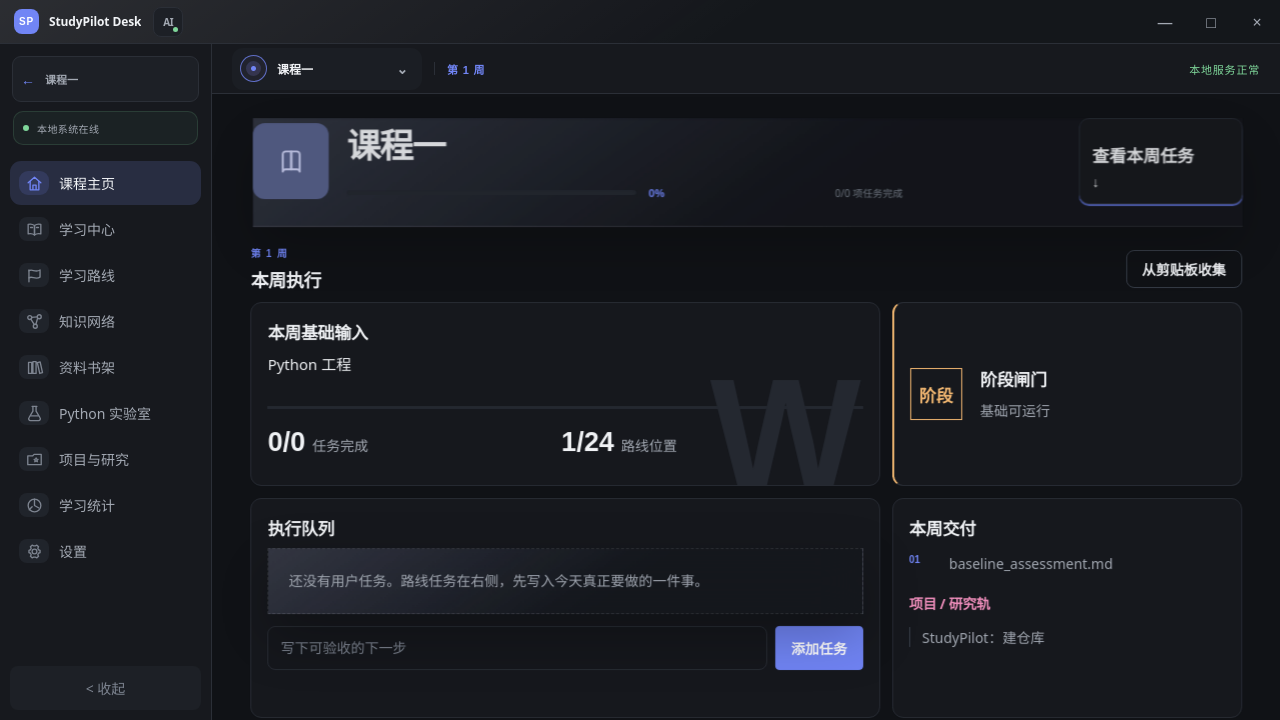
it: passes the active course into the Python workbench draft scope
The width and height of the screenshot is (1280, 720).
Expected: the heading "本周执行" is shown, [250,266,321,292]
Click the button "Python 实验室" at (106, 413), box [10,391,201,435]
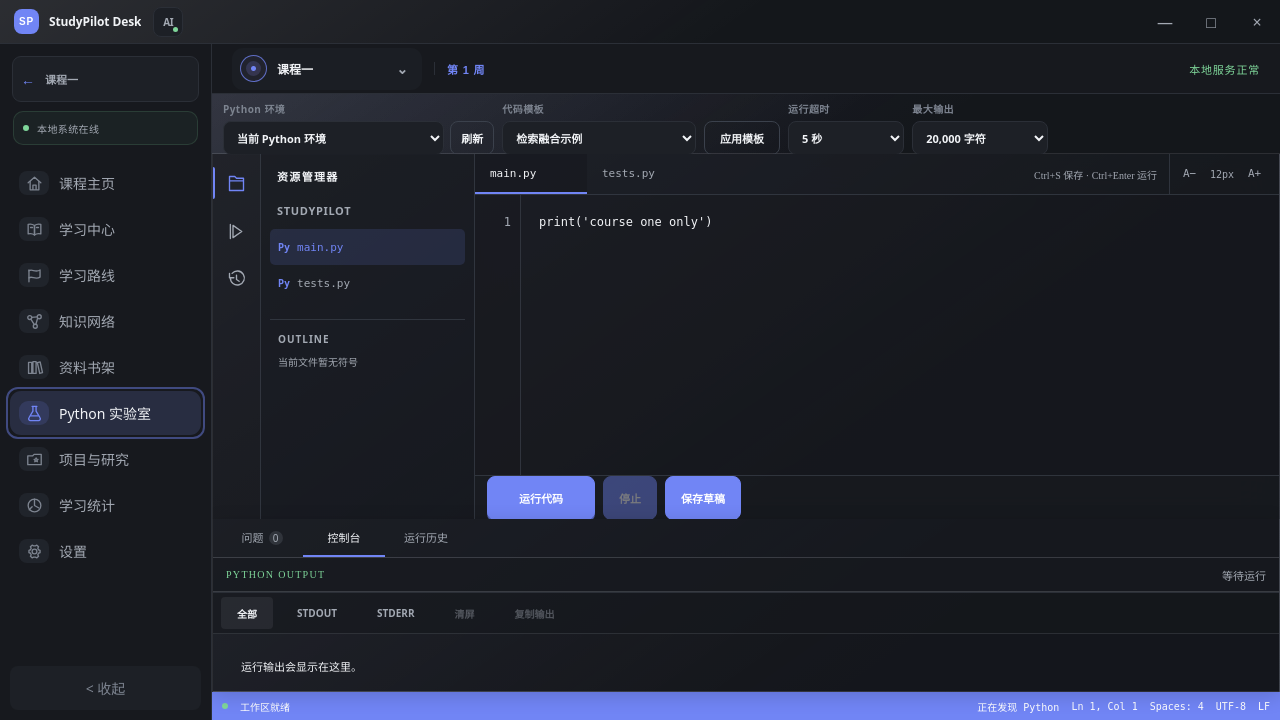
Now the text box named "Python 代码" holds "print('course one only')", box [521,195,1279,475]
Click the button with aria-label "当前课程：课程一" at (327, 68), box [232,48,422,90]
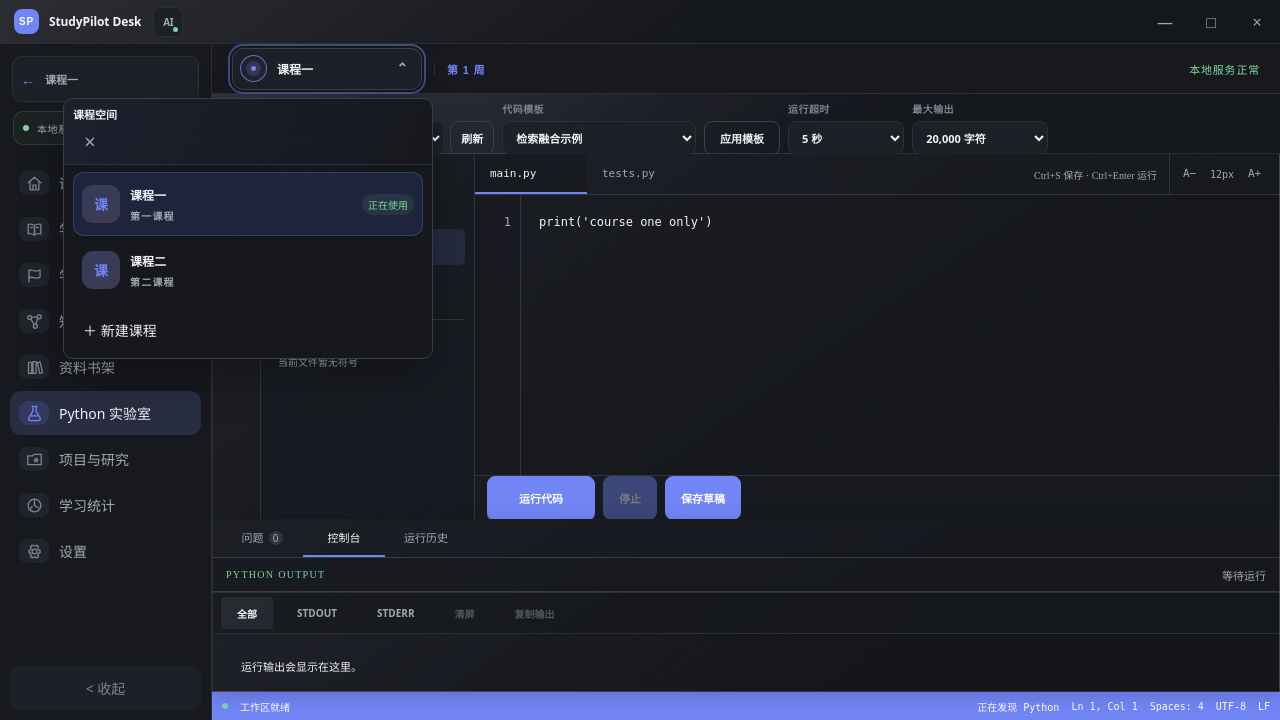
Click the button with aria-label "切换到 课程二" at (101, 270), box [73,238,423,302]
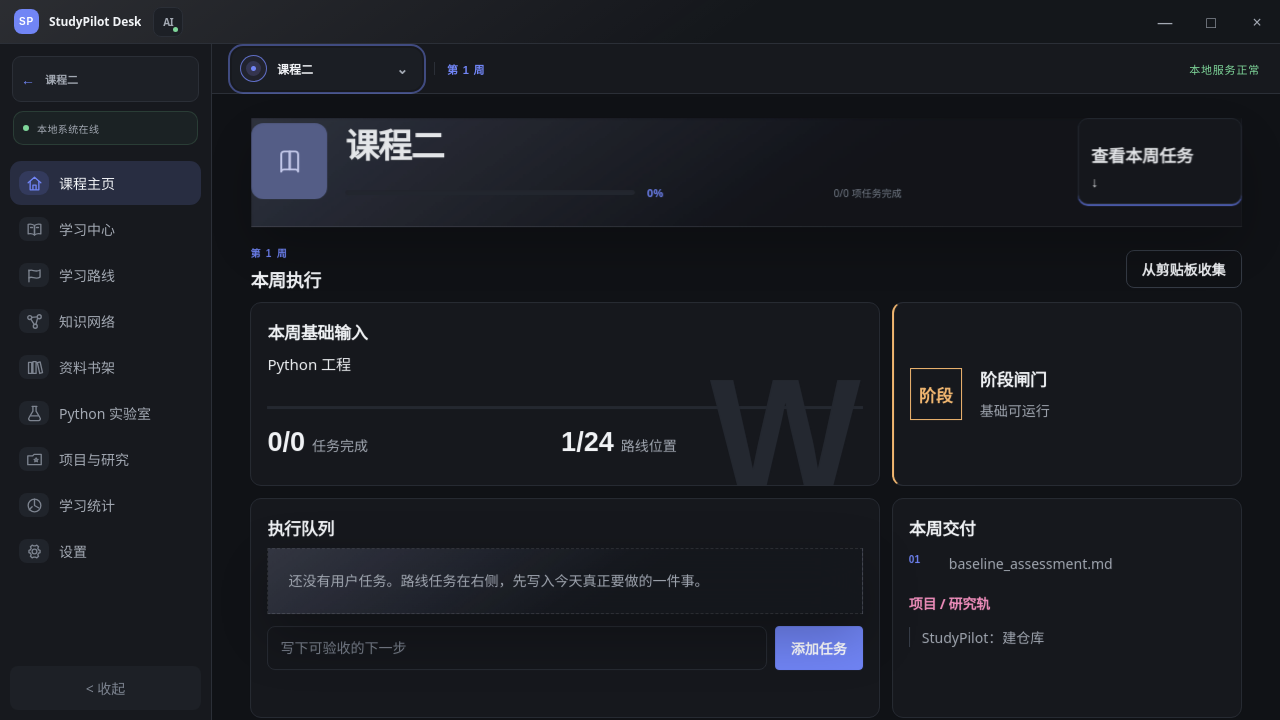
Now the button with aria-label "当前课程：课程二" is shown, box [232,48,422,90]
Click the button "Python 实验室" at (106, 413), box [10,391,201,435]
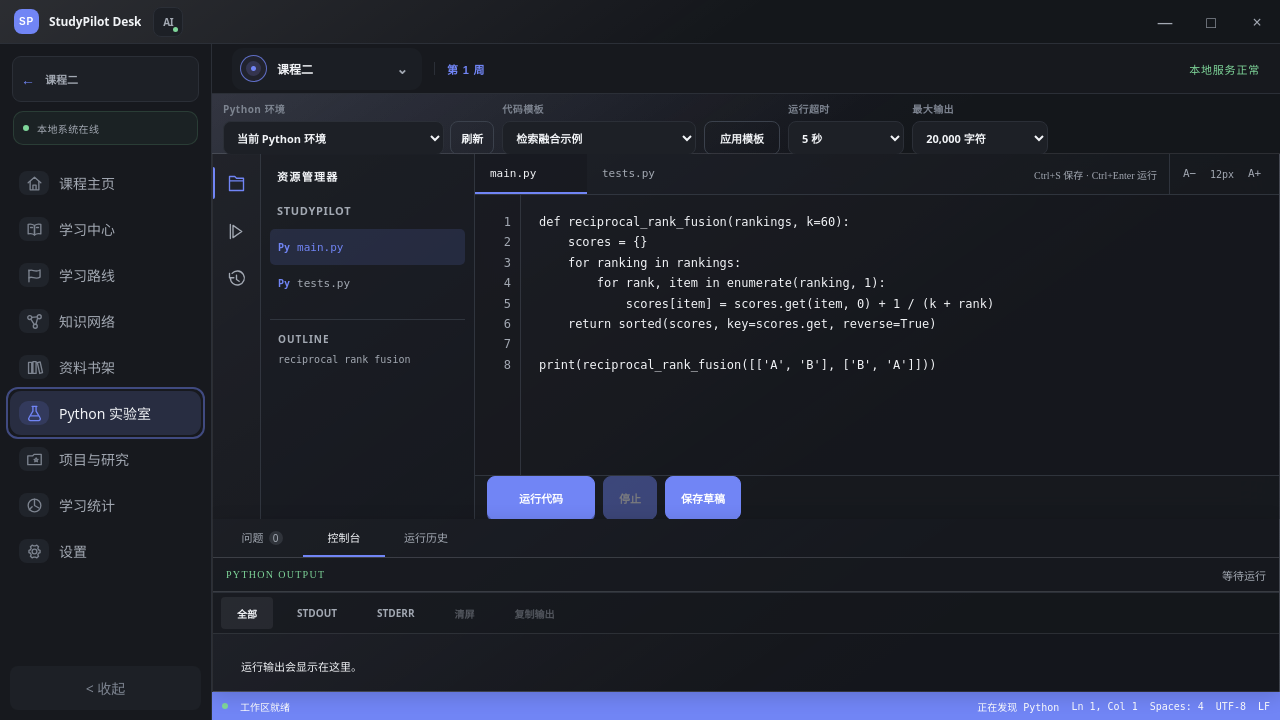
Now the text box named "Python 代码" does not hold "print('course one only')", box [521,195,1279,475]
